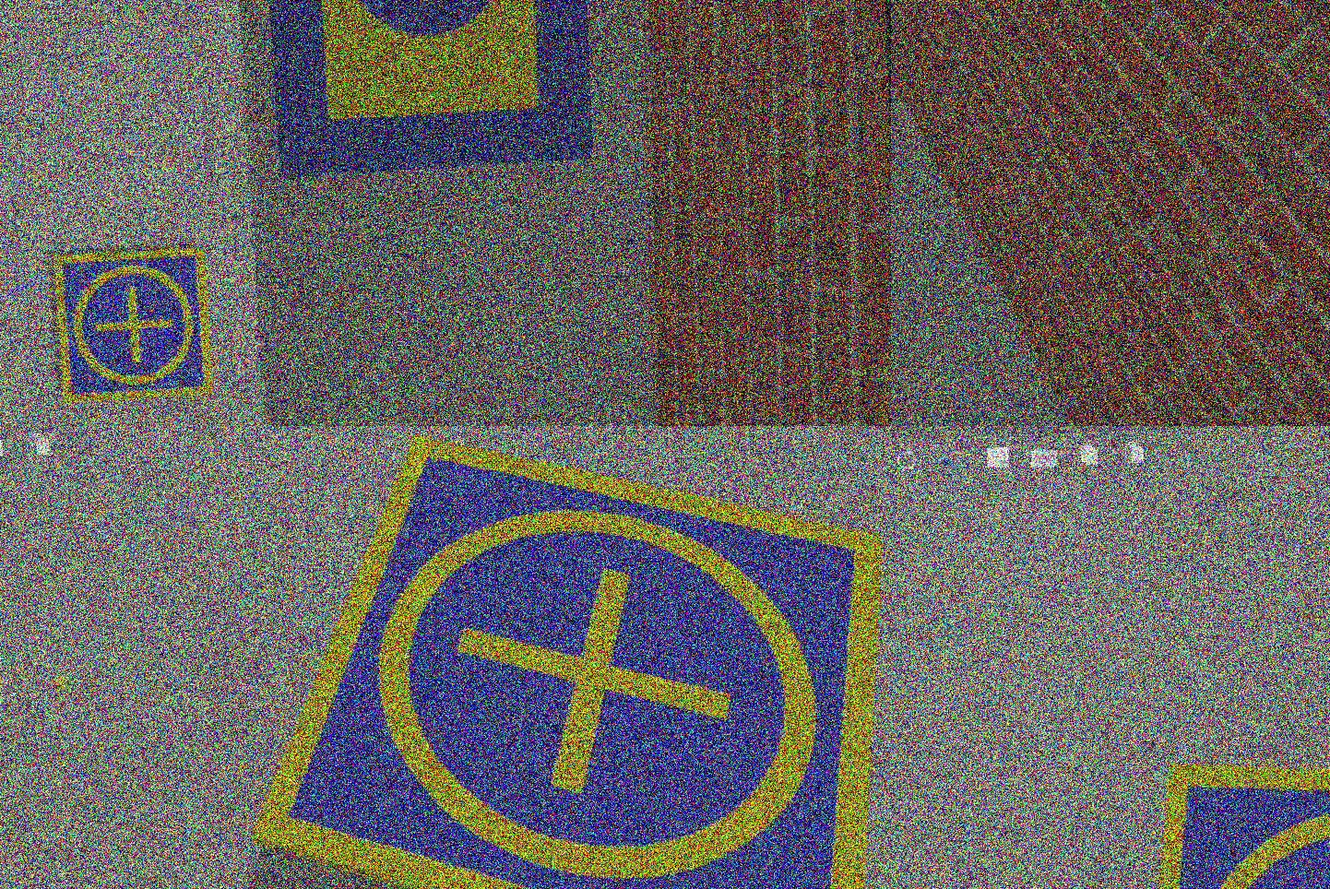large_base: (261, 1, 595, 178)
small_base: (236, 426, 892, 889), (45, 249, 218, 406)
